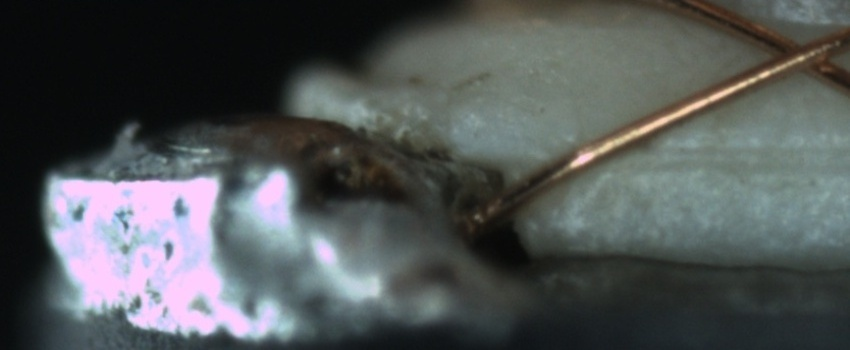CL: (746, 22, 847, 87)
DL: (618, 117, 838, 194)
